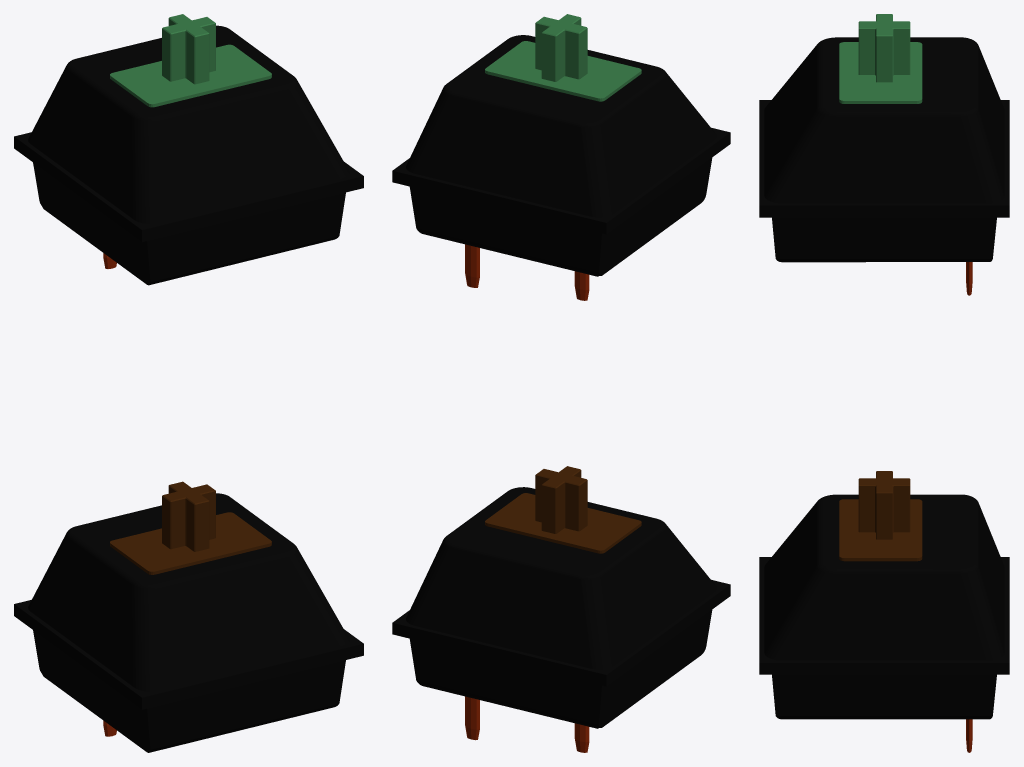
Rendered from mxbrown.glb.
The picture shows the model from 3 angles, left to right: view 1: azimuth 30°, elevation 25°; view 2: azimuth 150°, elevation 25°; view 3: azimuth 270°, elevation 25°; orthographic projection. The views are drawn at different scales.
Parts seen in each view (by area): view 1: Switch, Switch.001; view 2: Switch.001, Switch; view 3: Switch, Switch.001.
Part boxes in pixels (x1,y1,x2,y2): Switch: [14, 481, 363, 752]; Switch.001: [14, 14, 363, 285]; Switch.001: [392, 14, 730, 300]; Switch: [392, 466, 730, 752]; Switch: [759, 471, 1009, 752]; Switch.001: [759, 14, 1009, 295].
Size of the model in its own units: 0.0145 by 0.0449 by 0.0145.
